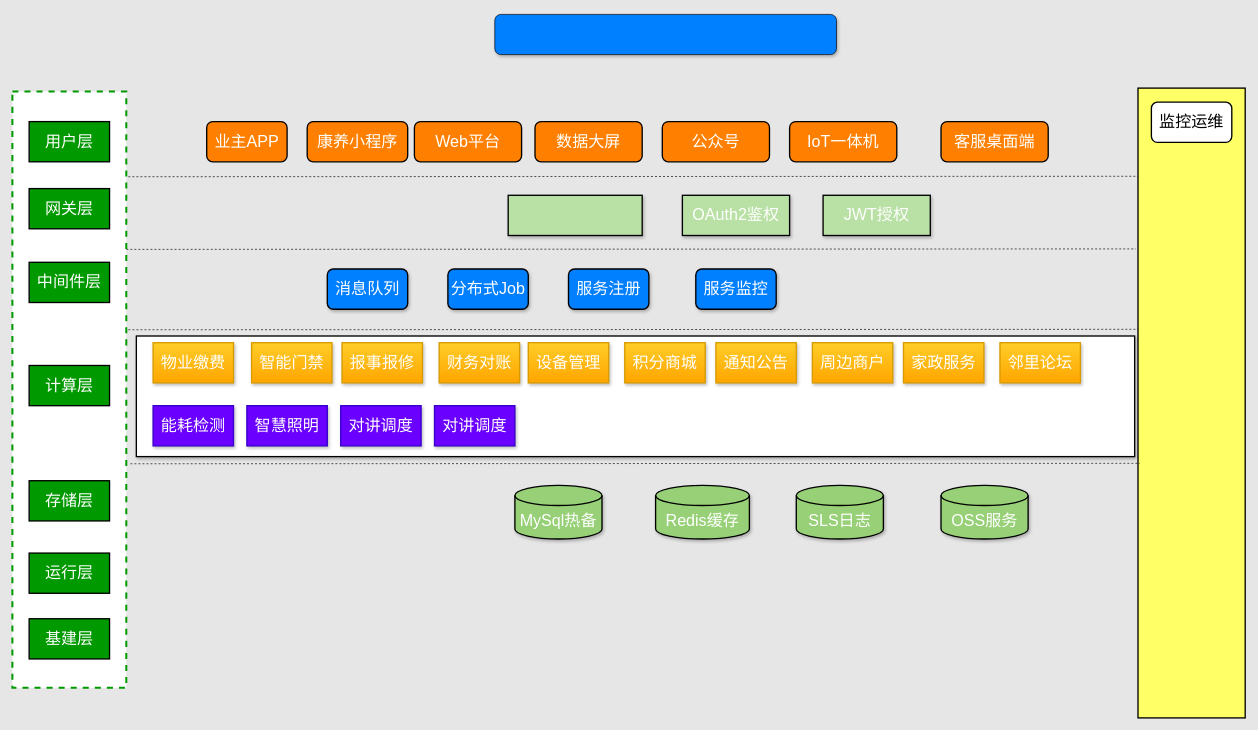
This 1258x730 diagram has some shape labels left out. Here are the shapes that lost their labels. From the top down, the centre of each, then its label:
At (x=666, y=35): "安泰智慧生活架构图".
At (x=576, y=216): "Nginx负载均衡".
